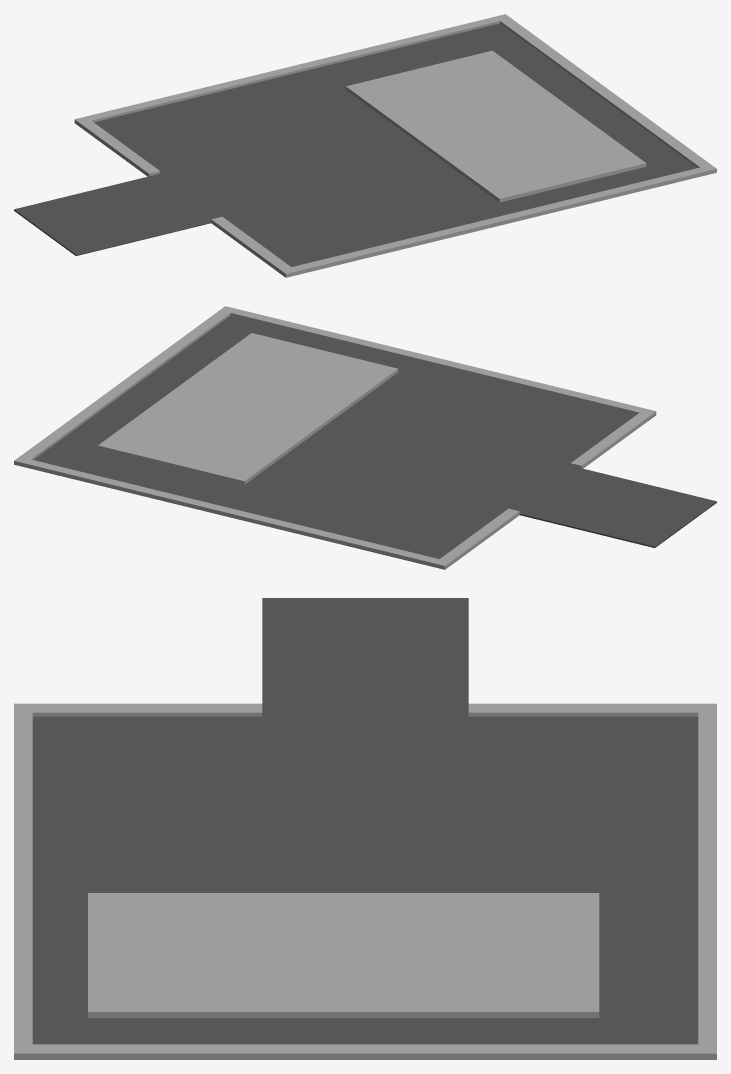
File: GasStationLot.glb
The picture shows the model from 3 angles, top to bottom: view 1: azimuth 30°, elevation 25°; view 2: azimuth 150°, elevation 25°; view 3: azimuth 270°, elevation 25°; orthographic projection. The views are drawn at different scales.
Visible parts, largest first — view 1: GasStationLot; view 2: GasStationLot; view 3: GasStationLot.
Part boxes in pixels (box(x1,y1,x2,y2)): GasStationLot: box(14, 14, 716, 277); GasStationLot: box(14, 306, 716, 569); GasStationLot: box(14, 598, 716, 1059).
Size of what is drawn, in the model's own units: 33.91 by 0.2949 by 21.92.
1 material, 1 textured.
